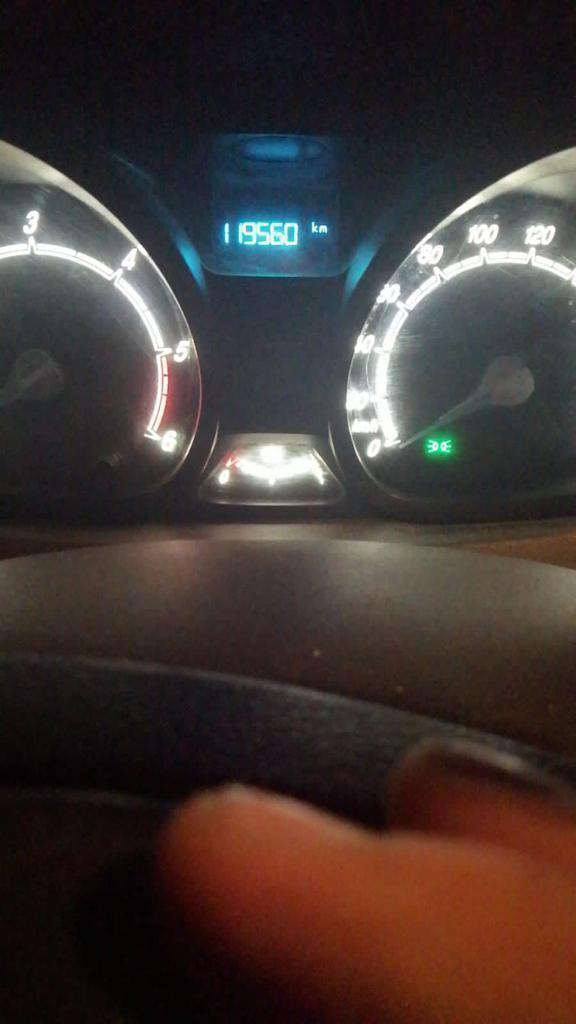0: (284, 220, 299, 247)
1: (220, 220, 230, 246), (236, 221, 242, 245)
5: (257, 221, 270, 247)
6: (270, 221, 283, 246)
9: (242, 221, 256, 246)
X: (310, 219, 318, 234), (318, 223, 328, 234)
odometer: (196, 201, 359, 280)
